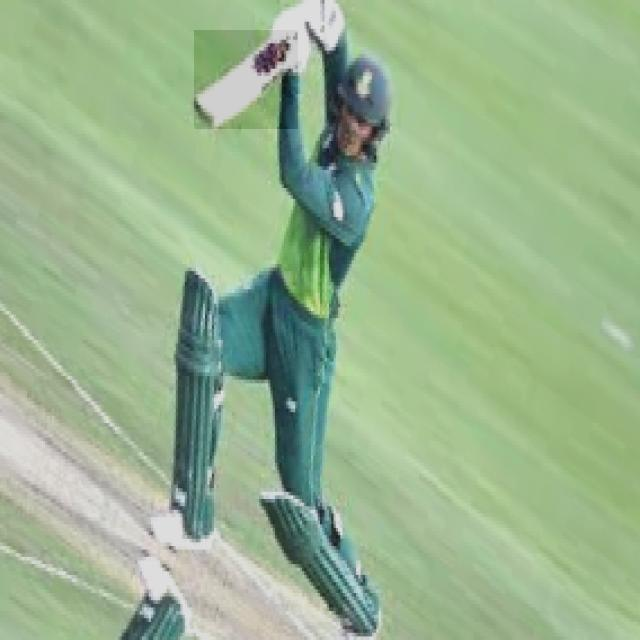bat: (190, 30, 295, 136)
toe: (189, 98, 218, 137)
